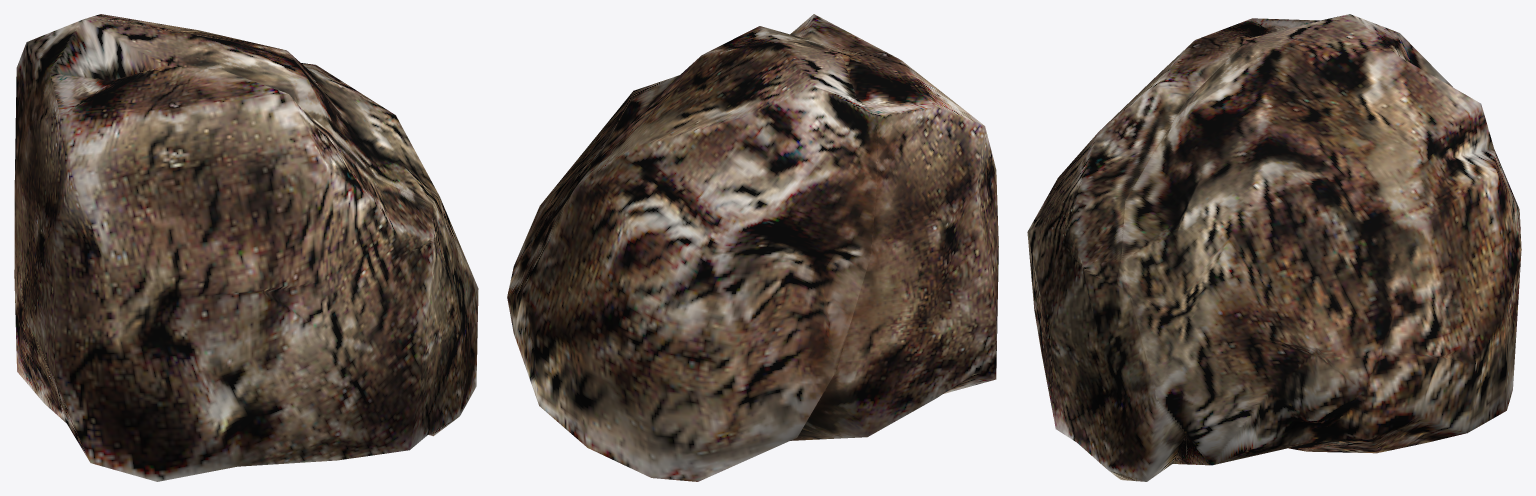
File: TRP_Rock small.FBX
3 views of the same model, side by side, from view 1: azimuth 30°, elevation 25°; view 2: azimuth 150°, elevation 25°; view 3: azimuth 270°, elevation 25° (orthographic). The views are drawn at different scales.
Parts seen in each view (by area): view 1: Stone Ruins 05b mdx1; view 2: Stone Ruins 05b mdx1; view 3: Stone Ruins 05b mdx1.
Part boxes in pixels (x1,y1,x2,y2): Stone Ruins 05b mdx1: (14,14,478,481); Stone Ruins 05b mdx1: (507,14,998,481); Stone Ruins 05b mdx1: (1027,14,1521,481).
Bounding box in the file's own units: 14.22 × 15.4 × 12.67.
Materials: 1 (1 with a texture image).
